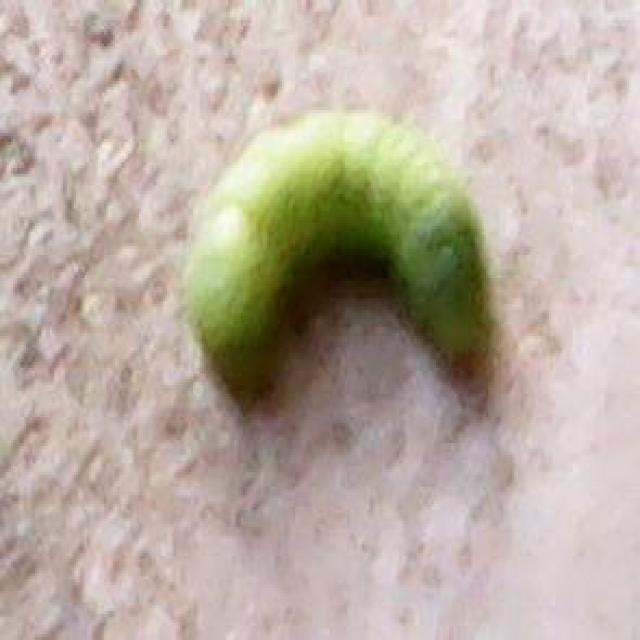armyworm: (189, 115, 490, 424)
